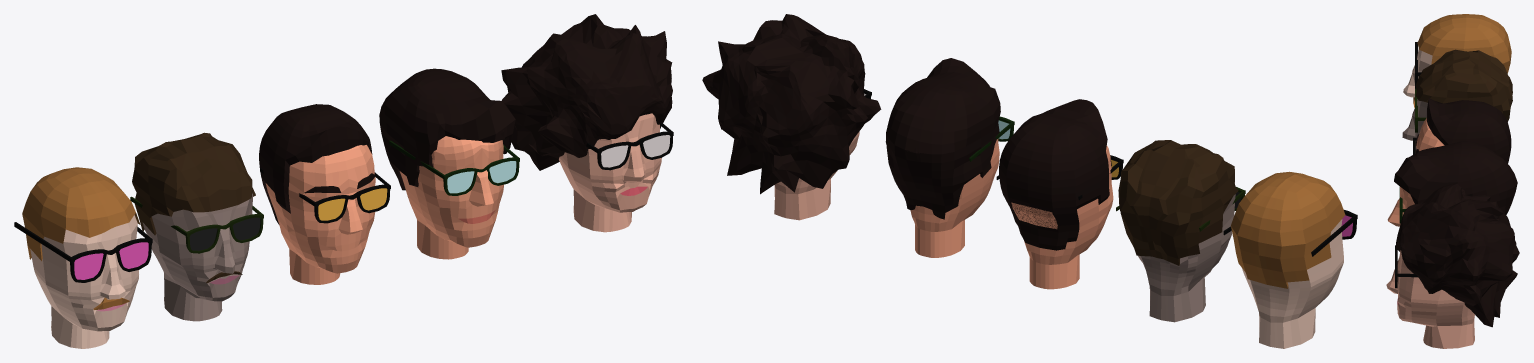
File: 5_Cabeças.fbx
The picture shows the model from 3 angles, left to right: view 1: azimuth 30°, elevation 25°; view 2: azimuth 150°, elevation 25°; view 3: azimuth 270°, elevation 25°; orthographic projection. The views are drawn at different scales.
Parts seen in each view (by area): view 1: Icosphere, Cube, Cube.002, Cube.004, Cube.009, Cube.007, Cube.010, Cube.006, Cube.003, Cube.008, Cube.001, Cube.012 (+1 smaller); view 2: Icosphere, Cube, Cube.002, Cube.009, Cube.006, Cube.004, Cube.007, Cube.010, Cube.003; view 3: Icosphere, Cube.009, Cube, Cube.010, Cube.002, Cube.006, Cube.004, Cube.007, Cube.005, Cube.001, Cube.003, Cube.008.
Part boxes in pixels (<box>): Icosphere: <box>501,14,672,170</box>; Cube: <box>132,132,255,321</box>; Cube.002: <box>22,167,140,348</box>; Cube.004: <box>265,145,375,284</box>; Cube.009: <box>379,68,515,190</box>; Cube.007: <box>399,136,503,259</box>; Cube.010: <box>559,113,661,232</box>; Cube.006: <box>259,104,372,224</box>; Cube.003: <box>14,222,152,282</box>; Cube.008: <box>389,140,519,195</box>; Cube.001: <box>130,196,263,253</box>; Cube.012: <box>260,168,390,223</box>; Icosphere: <box>702,14,881,194</box>; Cube: <box>1118,140,1238,322</box>; Cube.002: <box>1231,171,1345,348</box>; Cube.009: <box>885,58,1000,219</box>; Cube.006: <box>999,99,1109,250</box>; Cube.004: <box>1011,145,1113,289</box>; Cube.007: <box>910,139,999,257</box>; Cube.010: <box>774,131,859,220</box>; Cube.003: <box>1223,210,1357,256</box>; Icosphere: <box>1396,182,1519,327</box>; Cube.009: <box>1394,141,1517,214</box>; Cube: <box>1402,49,1512,152</box>; Cube.010: <box>1386,250,1474,348</box>; Cube.002: <box>1403,14,1511,107</box>; Cube.006: <box>1427,98,1511,163</box>; Cube.004: <box>1416,118,1444,152</box>; Cube.007: <box>1387,187,1414,226</box>; Cube.005: <box>1395,245,1418,288</box>; Cube.001: <box>1415,88,1426,132</box>; Cube.003: <box>1415,42,1421,88</box>; Cube.008: <box>1399,186,1405,223</box>.
Bounding box in the file's own units: 687 × 190 × 157.
